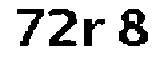2: (46, 7, 79, 52)
7: (12, 5, 45, 50)
8: (115, 4, 151, 51)
r: (82, 15, 108, 51)
